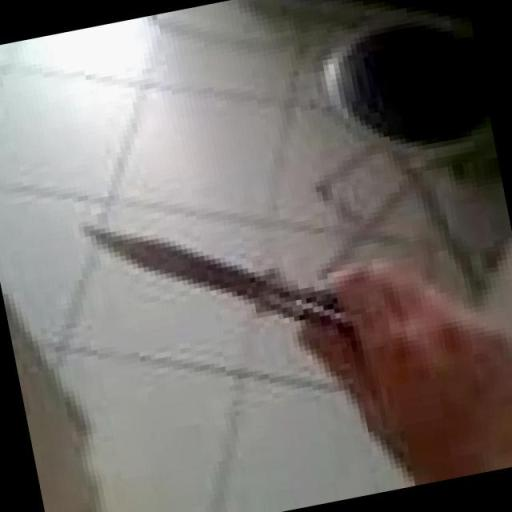knife: (61, 159, 395, 432)
